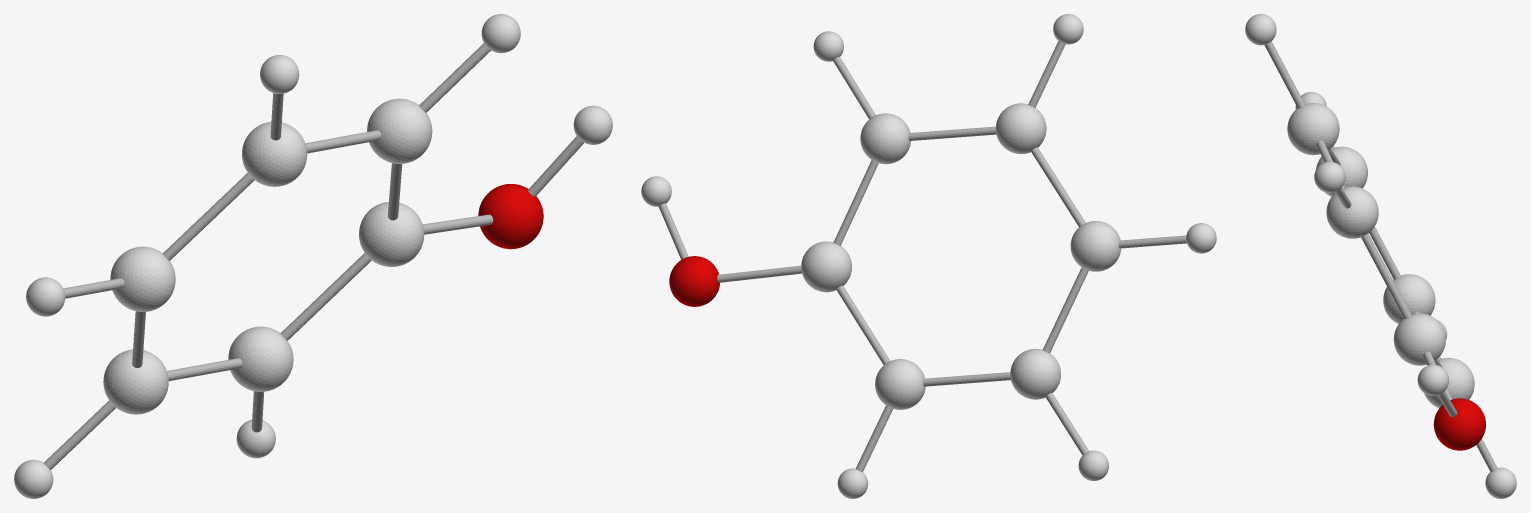
The model's file is c1ccc_cc1_O.glb.
The picture shows the model from 3 angles, left to right: view 1: azimuth 30°, elevation 25°; view 2: azimuth 150°, elevation 25°; view 3: azimuth 270°, elevation 25°; orthographic projection. The views are drawn at different scales.
Parts seen in each view (by area): view 1: world; view 2: world; view 3: world.
Part boxes in pixels (x1,y1,x2,y2): world: (14,14,612,498); world: (641,14,1216,498); world: (1245,14,1516,498).
Bounding box in the file's own units: 5.8 × 4.56 × 2.59.
